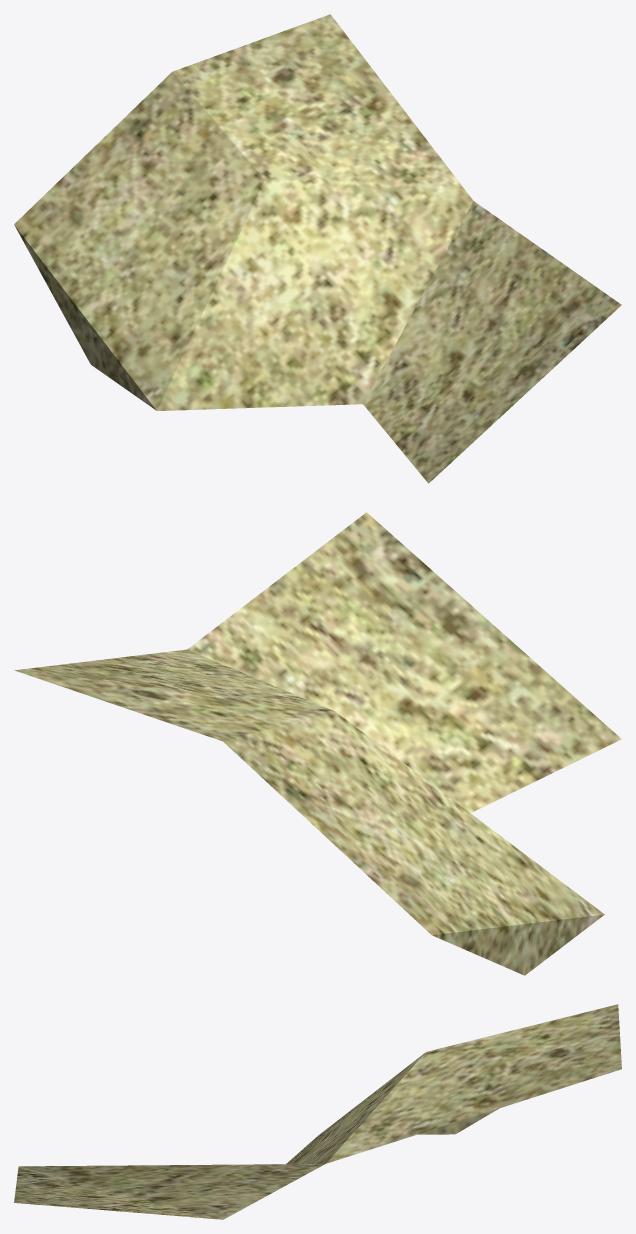
Rendered from iber_farmstead_b_hay.dae.
3 views of the same model, one above another, from view 1: azimuth 30°, elevation 25°; view 2: azimuth 150°, elevation 25°; view 3: azimuth 270°, elevation 25° (orthographic). The views are drawn at different scales.
Parts seen in each view (by area): view 1: Plane; view 2: Plane; view 3: Plane.
Boxes of the visible parts, bbox=[...] form: Plane: bbox=[14, 14, 621, 483]; Plane: bbox=[14, 512, 621, 975]; Plane: bbox=[14, 1004, 621, 1219].
Bounding box in the file's own units: 3.86 × 2.42 × 5.77.
